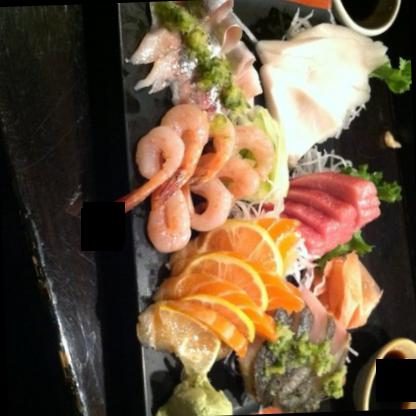shrimp: (102, 121, 184, 216), (146, 102, 215, 200), (138, 190, 192, 256), (184, 175, 230, 231)
tuna: (282, 177, 382, 254)
